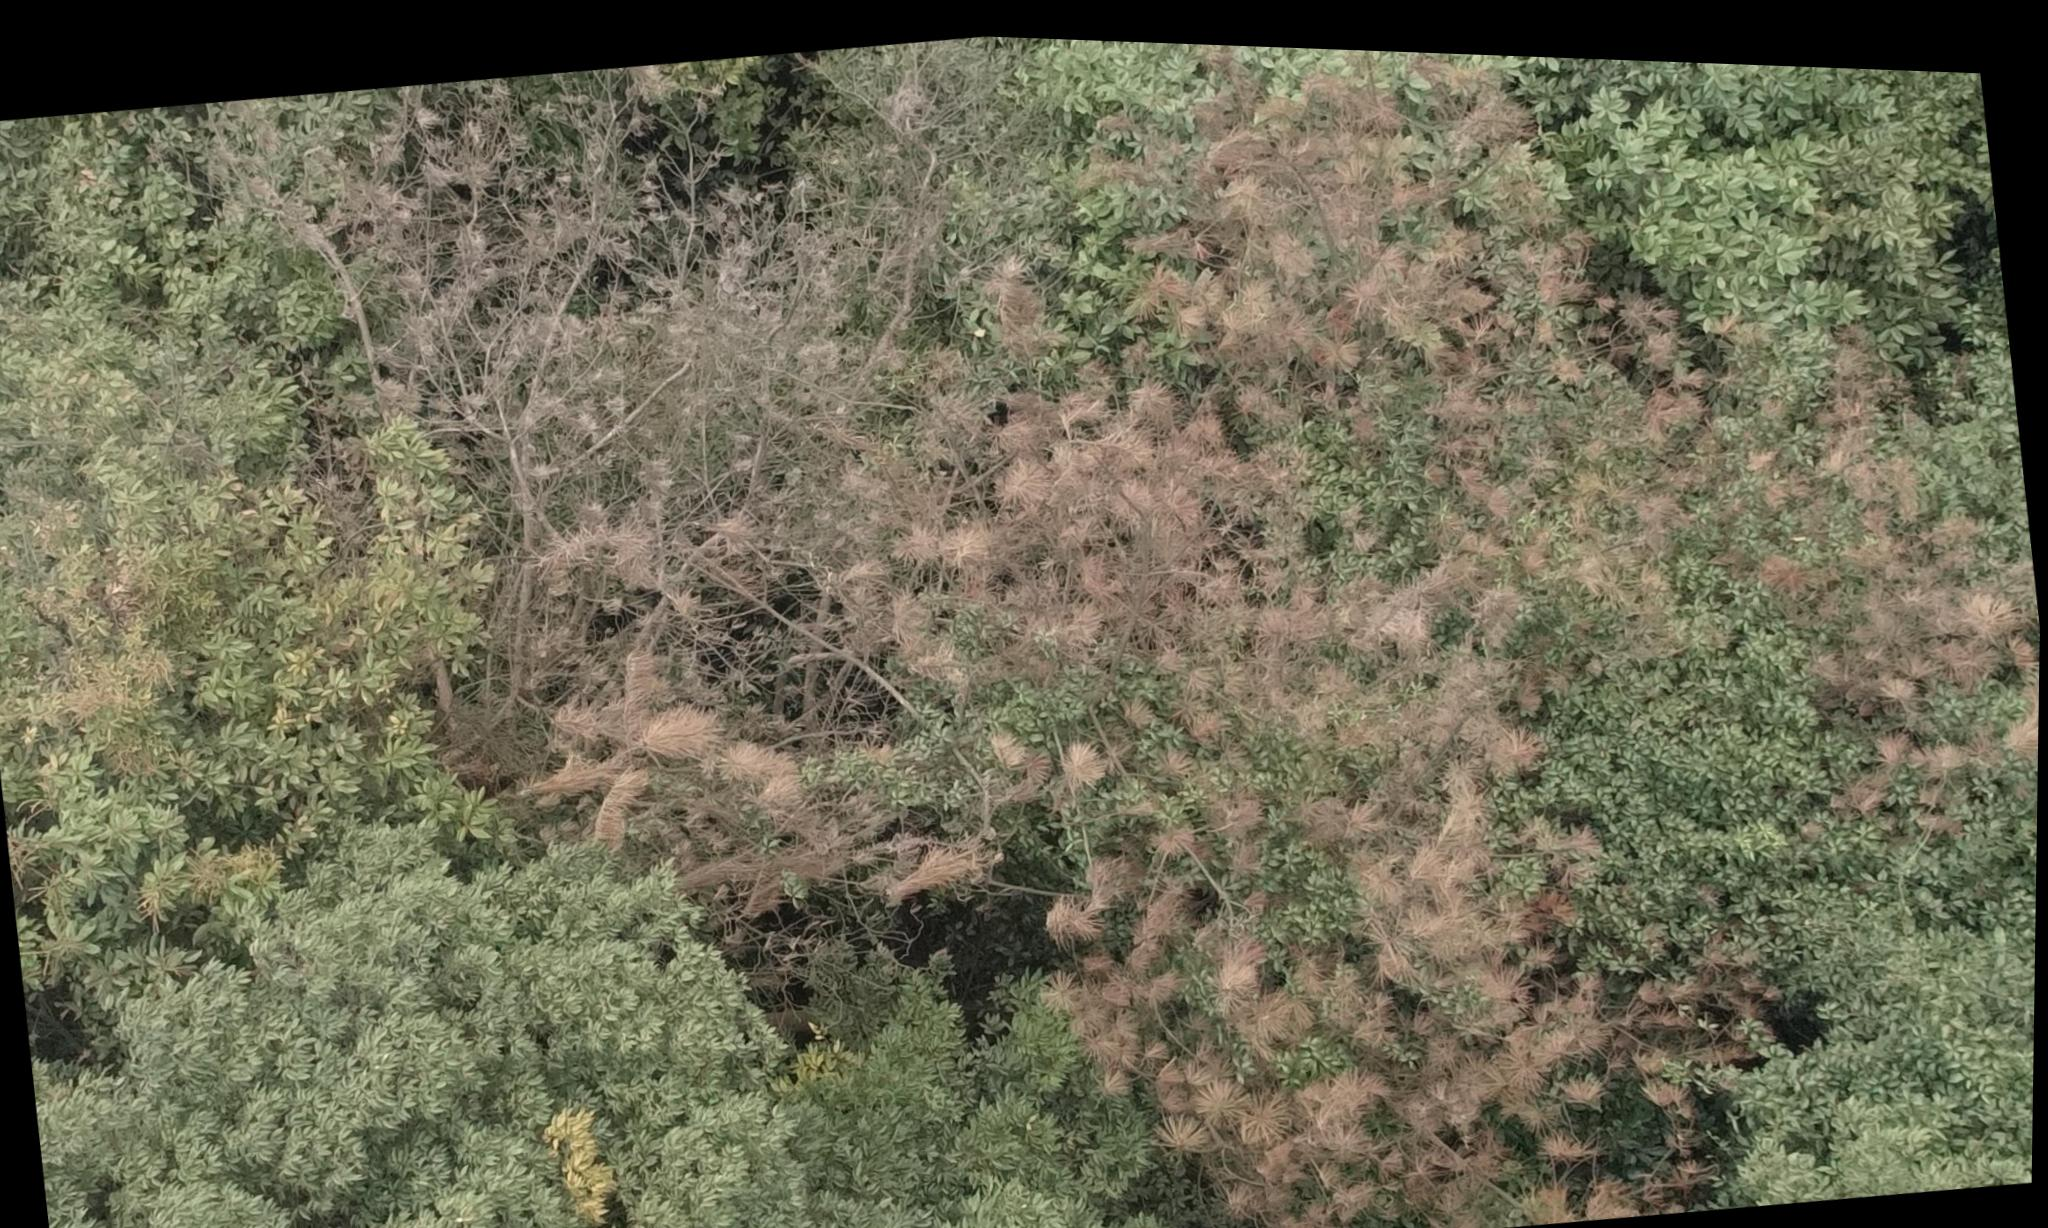heavy: (947, 28, 1763, 1228), (250, 44, 1017, 981), (1732, 333, 2045, 845)
